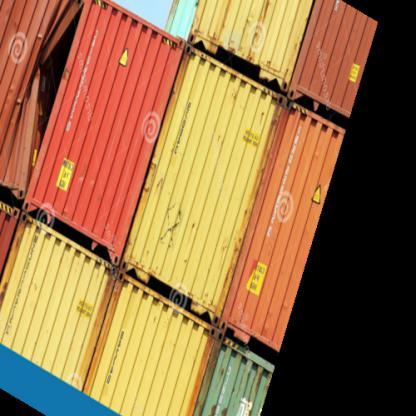Damage: (21, 1, 87, 205)
